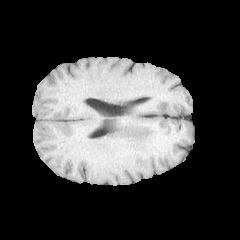glioma: (115, 122, 165, 151)
